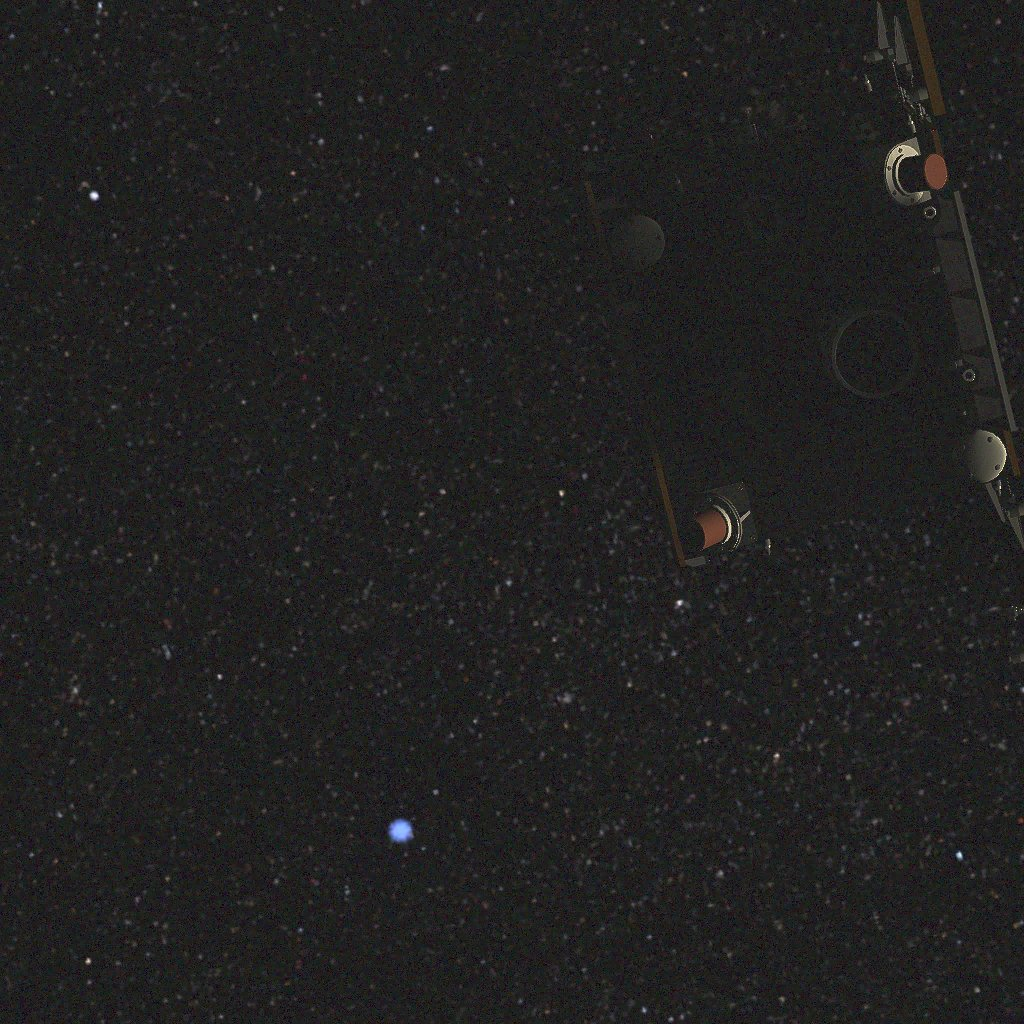proba_2: (559, 0, 1024, 664)
